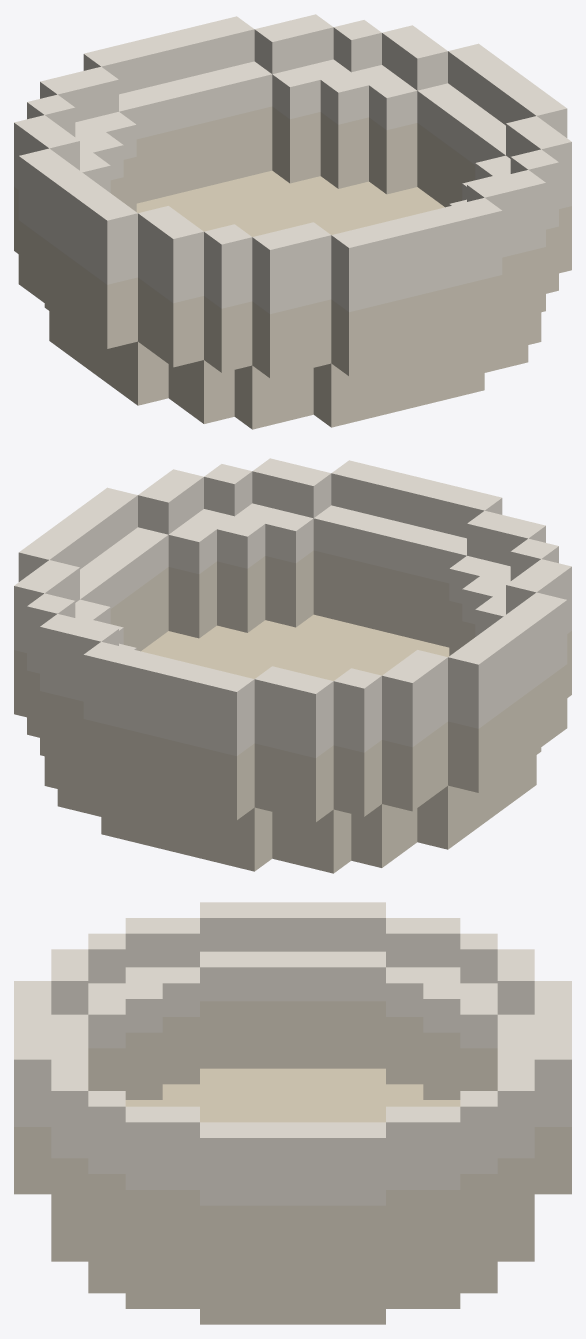
The model's file is tobby-food-bowl.glb.
3 views of the same model, one above another, from view 1: azimuth 30°, elevation 25°; view 2: azimuth 150°, elevation 25°; view 3: azimuth 270°, elevation 25° (orthographic). The views are drawn at different scales.
Visible parts, largest first — view 1: bowl_flare (×88), bowl_wall (×56), bowl_floor (×14); view 2: bowl_flare (×88), bowl_wall (×56), bowl_floor (×14); view 3: bowl_flare (×85), bowl_wall (×65), bowl_floor (×17).
Part boxes in pixels (box(x1,y1,x2,y2)): bowl_flare (×88): box(14, 14, 571, 378); bowl_wall (×56): box(49, 59, 528, 429); bowl_floor (×14): box(180, 170, 434, 224); bowl_flare (×88): box(14, 458, 571, 822); bowl_wall (×56): box(57, 503, 536, 873); bowl_floor (×14): box(151, 614, 405, 668); bowl_flare (×85): box(14, 902, 571, 1272); bowl_wall (×65): box(51, 951, 534, 1324); bowl_floor (×17): box(162, 1068, 423, 1115).
Bounding box in the file's own units: 0.9 × 0.36 × 0.9.
